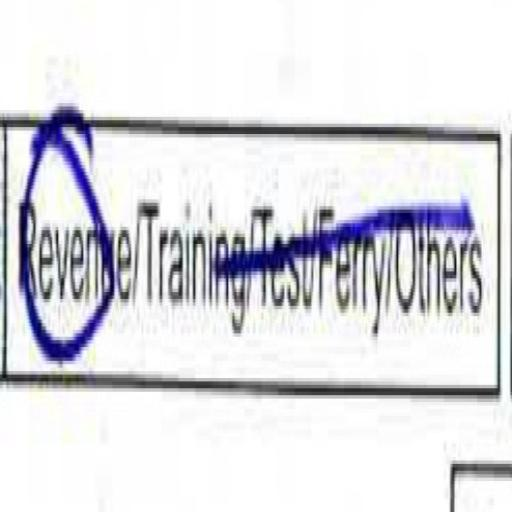check: (7, 43, 136, 414)
